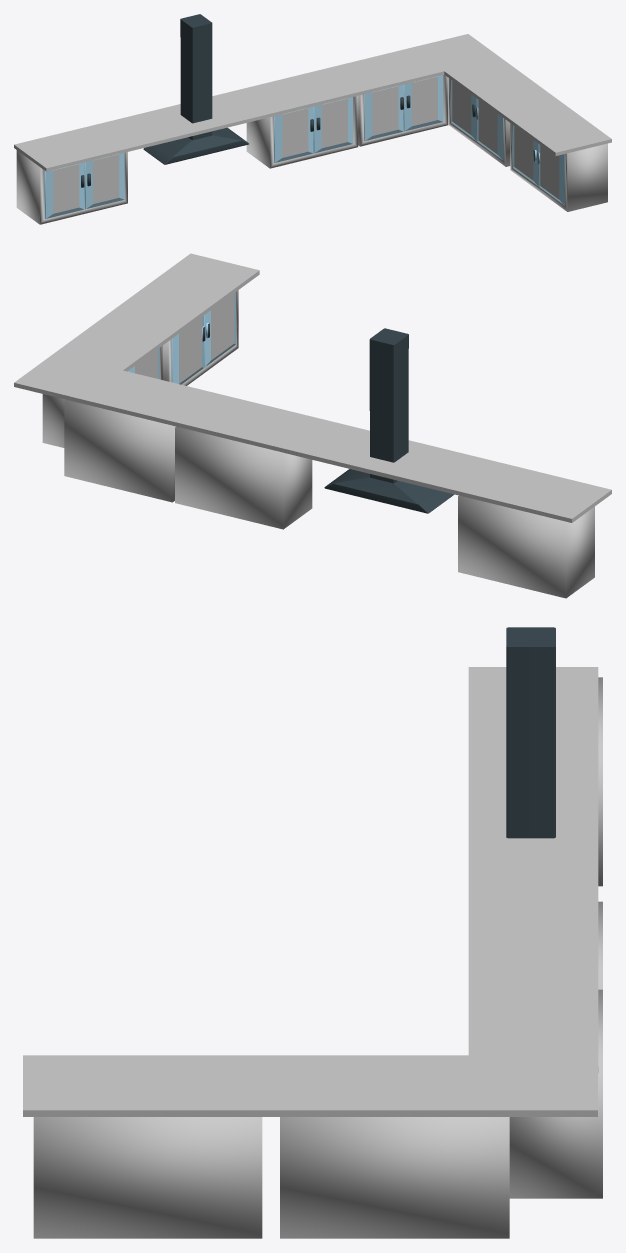
The model's file is Kitchen Cabinet_01.fbx.
3 renders of one model, top to bottom at view 1: azimuth 30°, elevation 25°; view 2: azimuth 150°, elevation 25°; view 3: azimuth 270°, elevation 25°, orthographic. The views are drawn at different scales.
Parts seen in each view (by area): view 1: Wall_Kabinet; view 2: Wall_Kabinet; view 3: Wall_Kabinet.
Boxes of the visible parts, <box> form: Wall_Kabinet: <box>14,14,611,224</box>; Wall_Kabinet: <box>14,253,611,598</box>; Wall_Kabinet: <box>23,627,602,1238</box>.
Size of the model in its own units: 1159 by 391 by 641.
